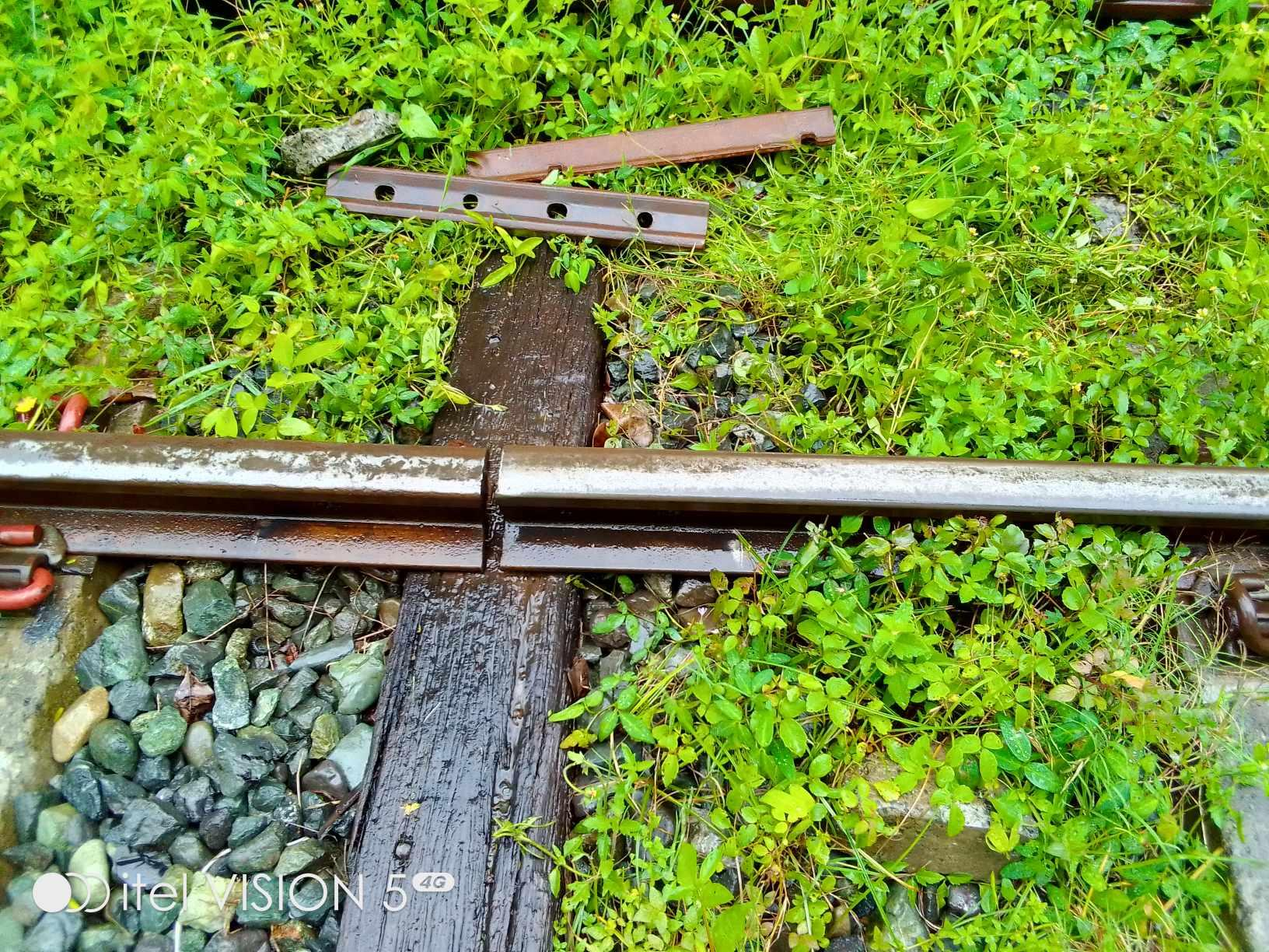railway-gap: (431, 417, 572, 594)
